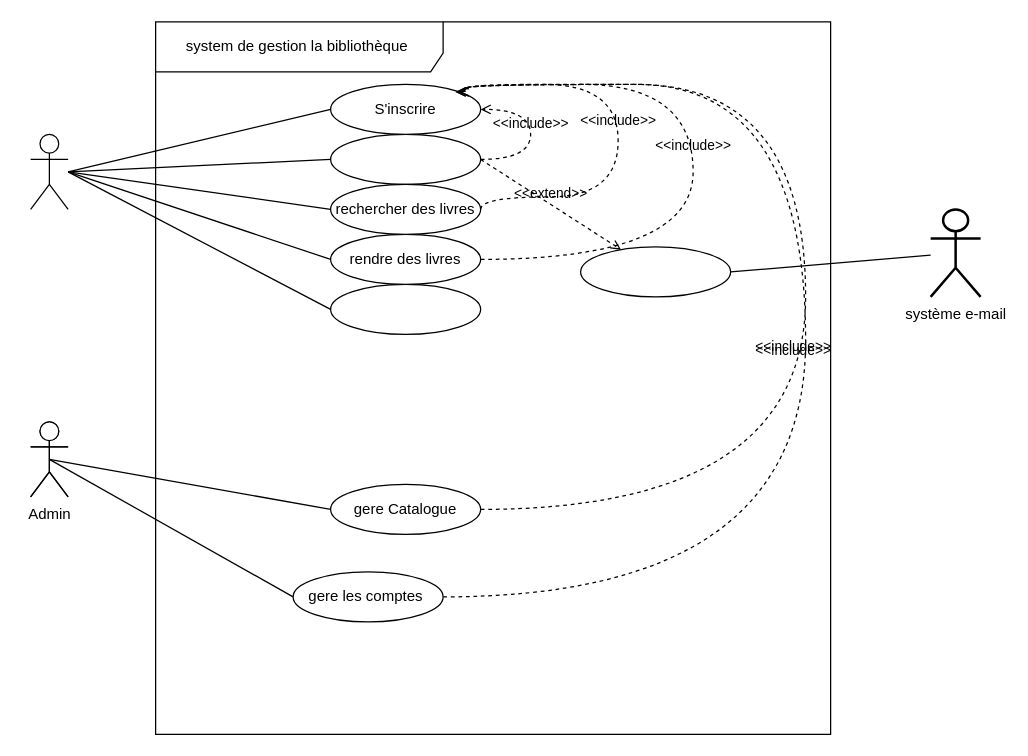
The diagram is 1028 pixels wide and 756 high, and some of its shapes have lost their labels. The shapes that lost their labels are listed below. From the top down, each one's centre as x and y in pixels, then its label:
(48,171): member
(405,158): emprunter livres
(655,271): envoyer Notification
(405,308): consulter l'hestorique
